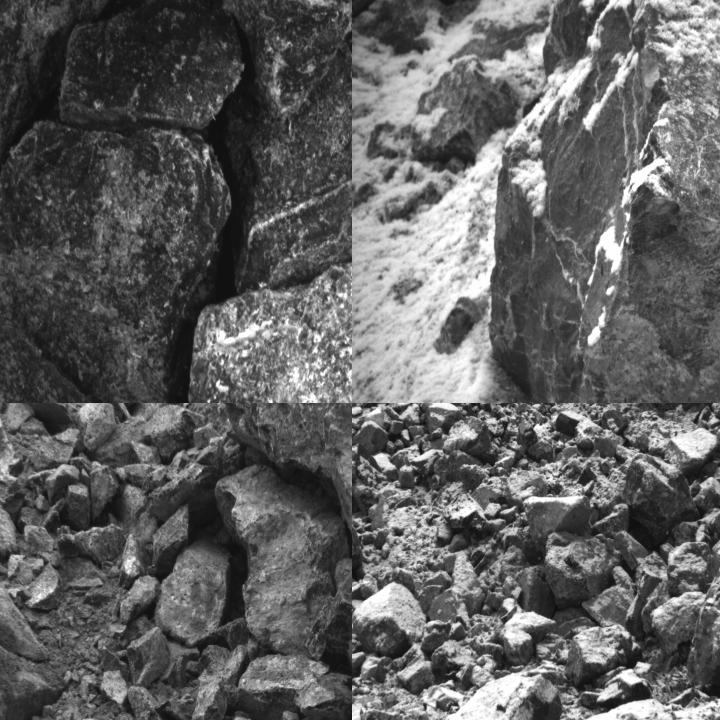stone: (491, 0, 719, 402), (0, 119, 232, 402), (227, 30, 351, 295), (61, 0, 241, 132), (220, 466, 342, 652), (186, 266, 351, 402), (0, 0, 130, 167), (0, 326, 240, 402), (220, 0, 351, 118), (395, 54, 519, 160), (221, 403, 351, 485), (157, 540, 238, 648), (232, 653, 330, 719), (434, 670, 563, 719), (625, 457, 698, 543), (352, 580, 427, 654), (545, 531, 616, 606), (686, 549, 719, 692), (522, 496, 594, 560), (567, 627, 643, 684), (0, 580, 53, 660), (319, 556, 351, 663), (649, 591, 703, 654), (499, 613, 561, 663), (145, 404, 201, 459), (294, 665, 351, 719), (58, 525, 128, 566), (588, 567, 634, 628), (442, 414, 499, 463), (664, 424, 720, 472), (127, 628, 170, 689), (153, 506, 189, 578), (666, 544, 713, 596), (25, 564, 67, 614), (121, 576, 162, 627), (72, 403, 115, 451), (91, 461, 119, 524), (191, 674, 229, 719), (424, 403, 465, 438), (0, 478, 18, 555), (128, 686, 166, 719), (66, 483, 90, 527), (100, 670, 127, 708)
